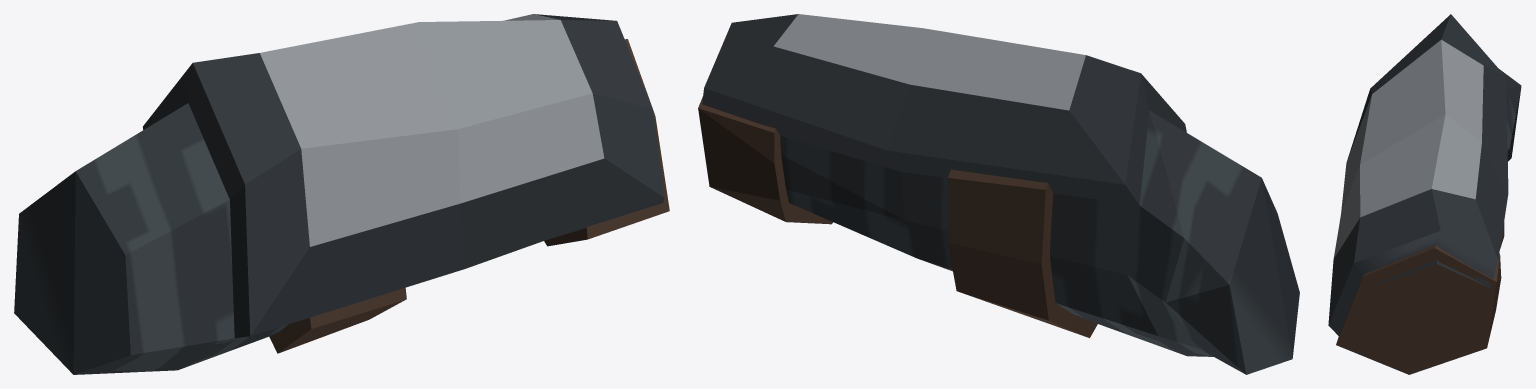
File: Chr_ArmLowerLeft_Female_04_Static.fbx
3 views of the same model, side by side, from view 1: azimuth 30°, elevation 25°; view 2: azimuth 150°, elevation 25°; view 3: azimuth 270°, elevation 25° (orthographic). The views are drawn at different scales.
Parts seen in each view (by area): view 1: Chr_ArmLowerLeft_Female_04_Static; view 2: Chr_ArmLowerLeft_Female_04_Static; view 3: Chr_ArmLowerLeft_Female_04_Static.
Boxes of the visible parts, x1,y1,x2,y2 form: Chr_ArmLowerLeft_Female_04_Static: (14,14,669,374); Chr_ArmLowerLeft_Female_04_Static: (698,14,1299,374); Chr_ArmLowerLeft_Female_04_Static: (1328,14,1521,374).
Size of the model in its own units: 0.2944 by 0.1452 by 0.103.
